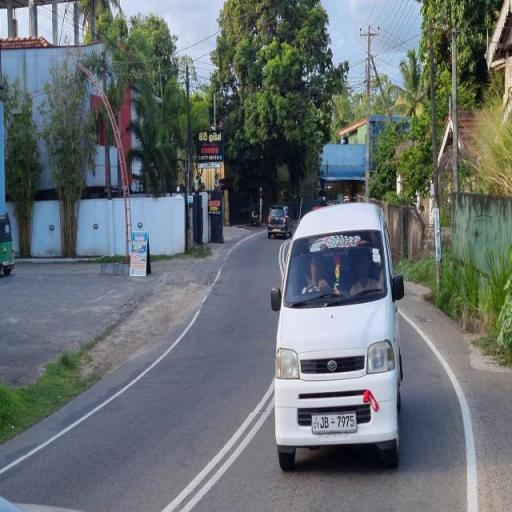double_white_line: (158, 381, 275, 510)
